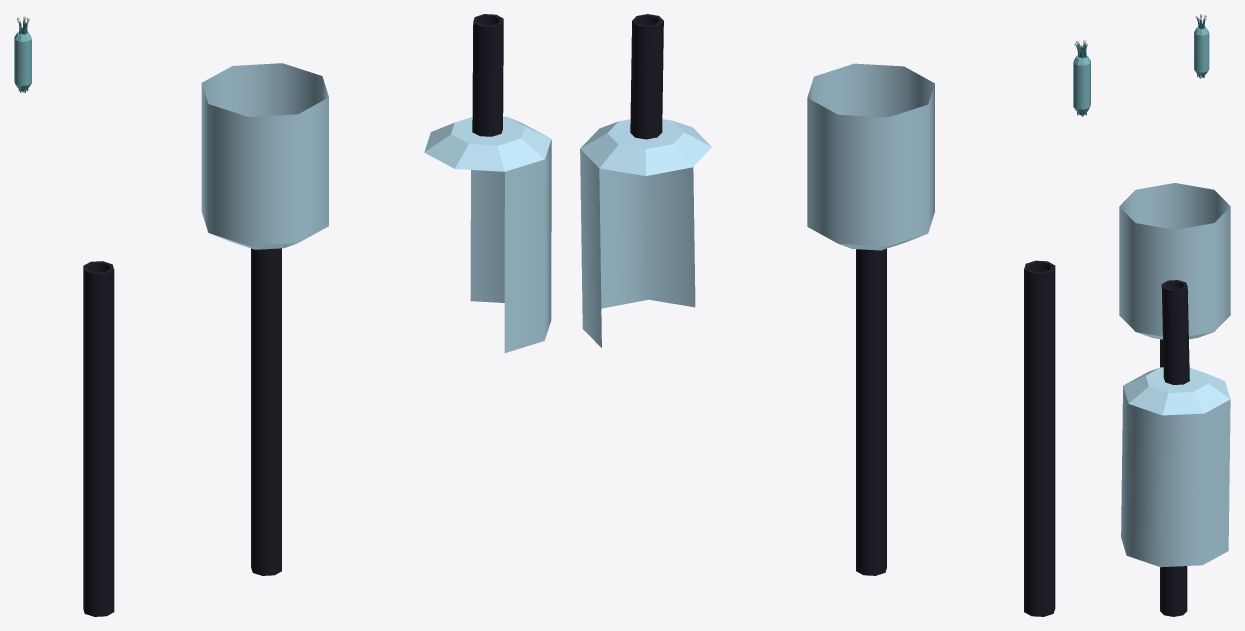
File: SyringeforPhage.fbx
3 renders of one model, left to right at view 1: azimuth 30°, elevation 25°; view 2: azimuth 150°, elevation 25°; view 3: azimuth 270°, elevation 25°, orthographic. The views are drawn at different scales.
Visible parts, largest first — view 1: SyringeBody, SyringeBodyHalf, NeedleInvert, Needle, Needle2, phagebody; view 2: SyringeBody, SyringeBodyHalf, NeedleInvert, Needle, Needle2, phagebody; view 3: SyringeBodyHalf, SyringeBody, Needle2, Needle, phagebody.
Boxes of the visible parts, <box> form: SyringeBody: <box>201,63,328,249</box>; SyringeBodyHalf: <box>424,116,551,352</box>; NeedleInvert: <box>83,261,114,616</box>; Needle: <box>251,248,281,575</box>; Needle2: <box>472,14,503,136</box>; phagebody: <box>14,32,31,89</box>; SyringeBody: <box>807,63,934,250</box>; SyringeBodyHalf: <box>580,119,711,347</box>; NeedleInvert: <box>1024,260,1055,616</box>; Needle: <box>856,248,886,575</box>; Needle2: <box>630,14,663,139</box>; phagebody: <box>1073,55,1090,112</box>; SyringeBodyHalf: <box>1121,367,1230,567</box>; SyringeBody: <box>1119,183,1230,339</box>; Needle2: <box>1161,280,1189,384</box>; Needle: <box>1160,339,1187,616</box>; phagebody: <box>1194,26,1209,75</box>.
Size of the model in its own units: 576 by 637 by 128.
